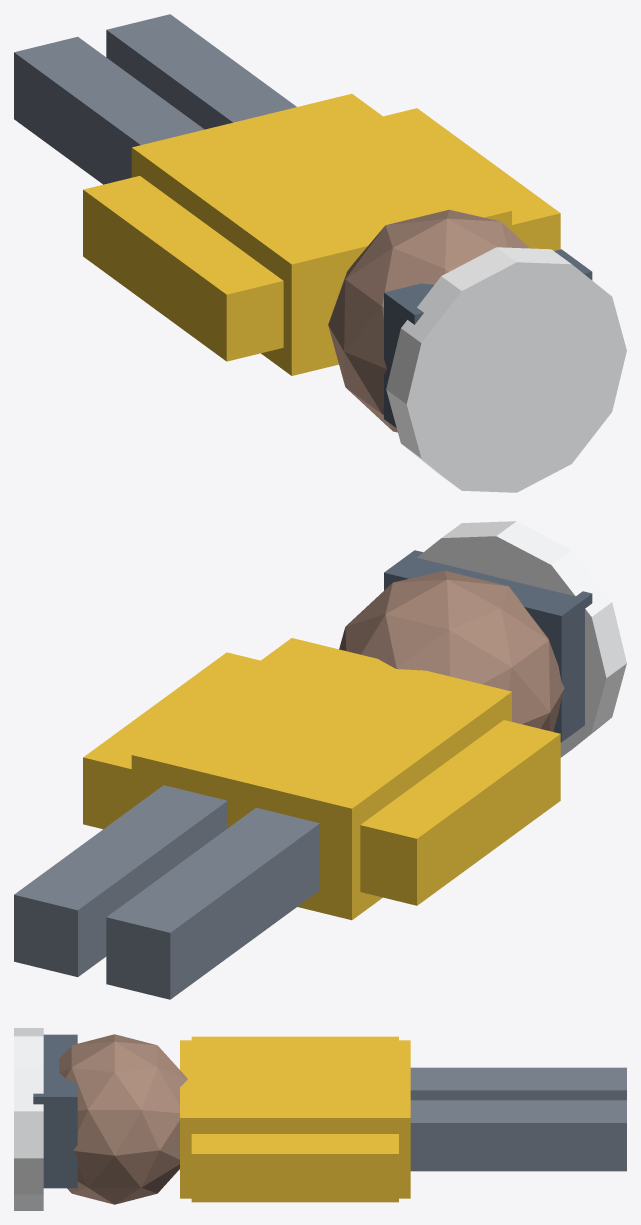
Rendered from safety.glb.
The picture shows the model from 3 angles, top to bottom: view 1: azimuth 30°, elevation 25°; view 2: azimuth 150°, elevation 25°; view 3: azimuth 270°, elevation 25°; orthographic projection. The views are drawn at different scales.
Visible parts, largest first — view 1: helmet, vest, arm_l, leg_l, head, leg_r, arm_r, hair; view 2: vest, leg_l, arm_l, head, leg_r, helmet, arm_r, hair; view 3: vest, head, leg_r, arm_r, leg_l, helmet, hair, arm_l.
Part boxes in pixels (bbox=[...]): helmet: bbox=[386, 247, 626, 492]; vest: bbox=[131, 93, 511, 375]; arm_l: bbox=[83, 176, 283, 361]; leg_l: bbox=[14, 36, 204, 184]; head: bbox=[328, 209, 529, 432]; leg_r: bbox=[106, 14, 296, 129]; arm_r: bbox=[383, 108, 560, 250]; hair: bbox=[384, 249, 592, 427]; vest: bbox=[131, 638, 511, 920]; leg_l: bbox=[106, 807, 319, 999]; arm_l: bbox=[360, 720, 560, 905]; head: bbox=[339, 570, 564, 731]; leg_r: bbox=[14, 785, 227, 977]; helmet: bbox=[417, 521, 626, 757]; arm_r: bbox=[83, 652, 260, 829]; hair: bbox=[384, 550, 592, 742]; vest: bbox=[180, 1040, 410, 1198]; head: bbox=[59, 1034, 187, 1204]; leg_r: bbox=[410, 1100, 626, 1171]; arm_r: bbox=[191, 1134, 398, 1202]; leg_l: bbox=[410, 1067, 626, 1100]; helmet: bbox=[14, 1028, 43, 1210]; hair: bbox=[33, 1034, 77, 1188]; arm_l: bbox=[191, 1036, 398, 1040].
Bounding box in the file's own units: 0.94 × 0.62 × 2.07.
